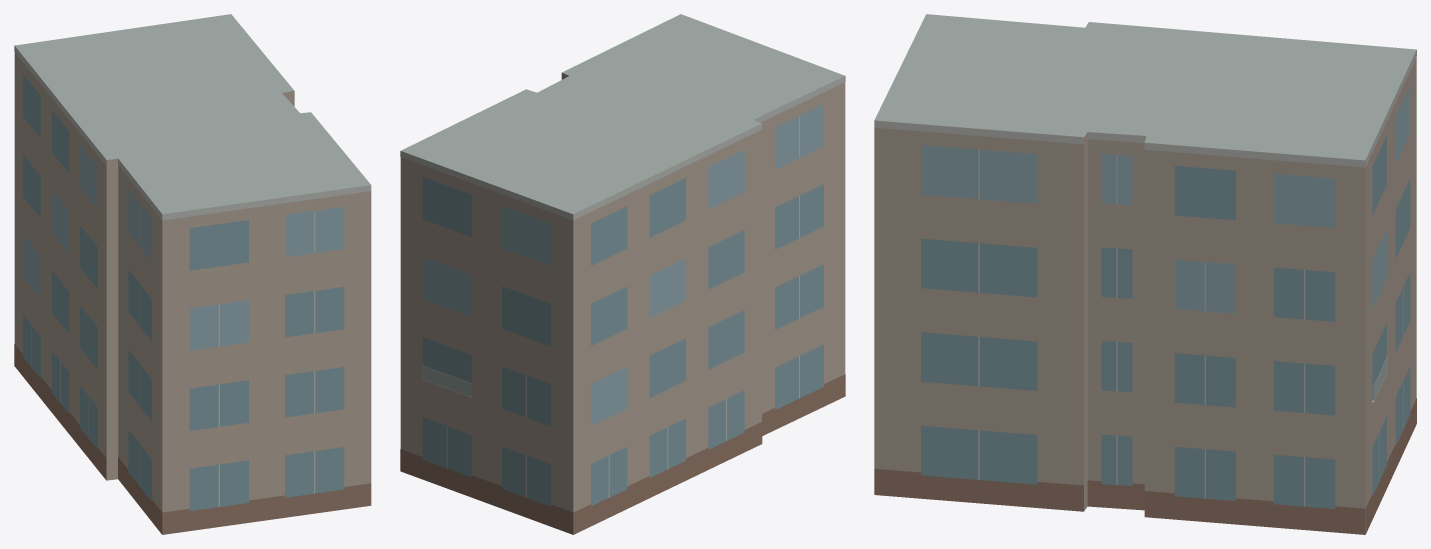
Rendered from survey-upis-32995992.glb.
3 renders of one model, left to right at view 1: azimuth 30°, elevation 25°; view 2: azimuth 150°, elevation 25°; view 3: azimuth 270°, elevation 25°, orthographic. The views are drawn at different scales.
Parts seen in each view (by area): view 1: survey-upis-32995992.tmp; view 2: survey-upis-32995992.tmp; view 3: survey-upis-32995992.tmp.
Part boxes in pixels (x1=…): survey-upis-32995992.tmp: x1=14, y1=14, x2=371, y2=534; survey-upis-32995992.tmp: x1=400, y1=14, x2=845, y2=534; survey-upis-32995992.tmp: x1=874, y1=14, x2=1416, y2=534.
Size of the model in its own units: 10.75 by 12.8 by 16.82.
